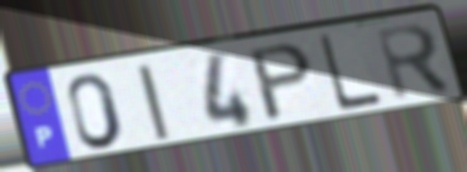0: (64, 72, 126, 152)
4: (202, 50, 257, 132)
I: (132, 61, 174, 144)
L: (315, 31, 385, 115)
P: (246, 39, 315, 126)
R: (372, 19, 456, 104)
